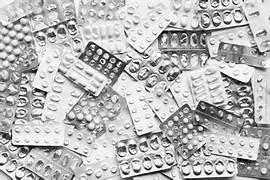pill_Strip: (65, 86, 124, 133), (116, 133, 174, 177), (113, 52, 169, 95), (160, 104, 204, 158), (41, 72, 84, 121), (127, 4, 170, 52), (0, 16, 37, 71), (125, 53, 180, 90), (59, 53, 107, 95), (158, 28, 208, 68), (79, 41, 125, 84), (33, 19, 83, 56), (119, 0, 171, 35), (0, 133, 39, 179), (124, 82, 158, 134), (220, 75, 254, 126), (237, 124, 269, 178), (64, 95, 107, 135), (7, 16, 38, 71), (115, 132, 173, 161), (14, 72, 46, 123), (194, 101, 243, 134), (116, 137, 174, 164), (133, 25, 180, 58), (206, 25, 255, 56), (80, 20, 126, 53), (0, 141, 39, 179), (117, 0, 159, 35), (23, 149, 72, 179), (124, 0, 174, 29), (189, 66, 226, 105), (104, 31, 152, 61), (119, 151, 174, 177), (127, 15, 161, 57), (29, 0, 75, 31), (205, 133, 259, 159), (152, 24, 204, 51), (242, 0, 269, 51), (186, 146, 236, 173), (125, 58, 167, 90), (216, 42, 269, 67), (105, 100, 135, 144), (196, 101, 243, 129), (32, 46, 61, 91), (188, 67, 224, 103), (0, 68, 20, 132), (190, 142, 253, 162), (180, 156, 236, 178), (106, 102, 135, 144), (12, 122, 64, 145), (77, 0, 125, 24), (35, 19, 81, 44), (36, 147, 82, 171), (146, 53, 181, 84), (0, 152, 40, 179), (198, 7, 247, 29), (0, 132, 31, 166), (146, 87, 177, 121), (206, 25, 255, 46), (158, 30, 206, 51), (18, 71, 45, 108), (29, 0, 61, 31), (251, 68, 269, 123), (63, 125, 94, 156), (83, 134, 116, 163), (241, 124, 269, 158), (113, 71, 151, 96), (75, 157, 118, 179), (163, 49, 208, 70), (210, 25, 255, 46), (57, 20, 83, 56), (170, 71, 195, 108), (117, 2, 145, 35), (170, 0, 200, 30), (85, 134, 116, 163), (0, 137, 31, 166), (27, 74, 46, 120), (83, 136, 115, 163), (86, 0, 125, 22), (64, 126, 93, 155), (192, 144, 238, 162), (0, 159, 41, 179), (0, 0, 39, 21), (0, 141, 30, 168), (0, 159, 40, 179), (185, 146, 235, 161), (14, 40, 38, 71), (123, 41, 159, 61), (0, 90, 17, 132), (64, 121, 106, 138), (19, 71, 45, 98), (123, 41, 158, 61), (1, 141, 30, 165), (218, 63, 254, 82), (78, 0, 106, 24), (237, 157, 269, 178), (127, 40, 160, 60), (125, 56, 151, 80), (125, 41, 156, 61), (127, 41, 159, 60), (112, 71, 136, 96), (124, 46, 154, 66), (154, 27, 180, 50), (240, 47, 269, 67), (216, 42, 243, 63), (0, 141, 20, 169), (41, 0, 62, 25), (82, 147, 114, 163), (183, 139, 208, 159), (170, 59, 189, 84), (216, 43, 241, 62), (186, 146, 219, 160), (196, 0, 242, 10), (105, 0, 125, 21), (14, 0, 40, 15), (1, 15, 29, 28), (0, 106, 14, 132), (57, 0, 75, 20), (192, 146, 221, 158), (257, 136, 269, 161), (161, 165, 181, 179), (132, 172, 166, 179), (207, 58, 225, 69), (255, 124, 269, 137), (115, 52, 128, 64), (0, 132, 11, 144), (261, 0, 269, 16), (207, 57, 221, 66), (164, 24, 181, 30), (164, 24, 180, 30), (255, 123, 269, 128), (261, 0, 269, 8), (106, 175, 121, 179), (257, 123, 269, 127)
